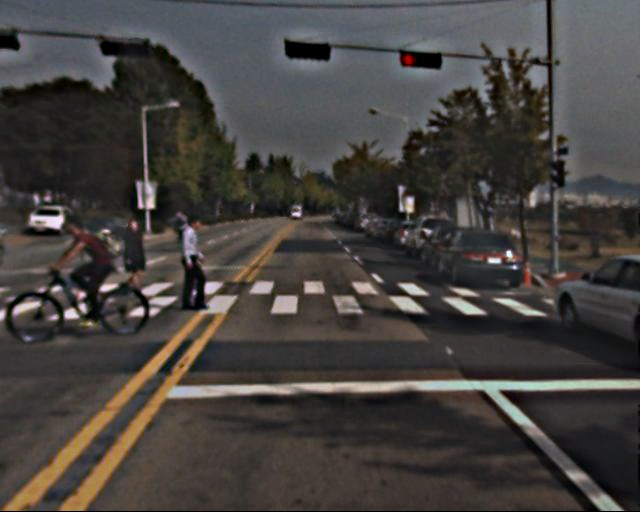person: (57, 213, 119, 321), (174, 213, 214, 309), (119, 217, 159, 297)
